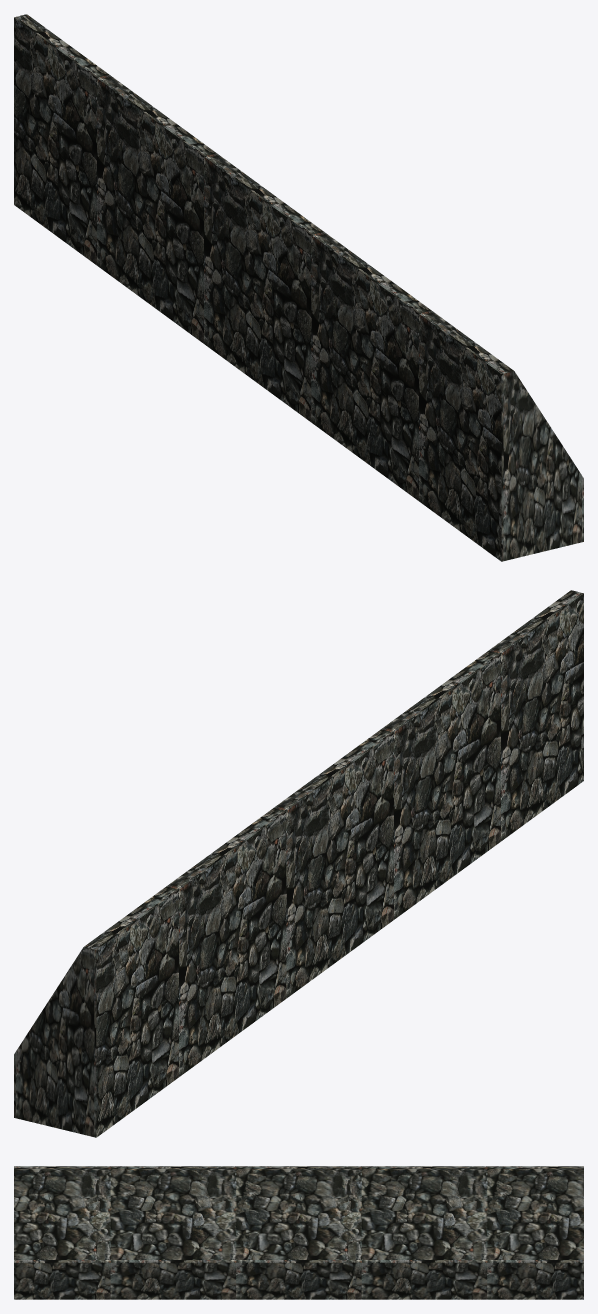
File: cobbleBarricade.FBX
3 views of the same model, one above another, from view 1: azimuth 30°, elevation 25°; view 2: azimuth 150°, elevation 25°; view 3: azimuth 270°, elevation 25° (orthographic). The views are drawn at different scales.
Parts seen in each view (by area): view 1: Box001; view 2: Box001; view 3: Box001.
Part boxes in pixels (bbox=[...]): Box001: bbox=[14, 14, 583, 561]; Box001: bbox=[14, 590, 583, 1137]; Box001: bbox=[14, 1166, 583, 1299].
Bounding box in the file's own units: 19.71 × 42.91 × 202.
1 material, 1 textured.
